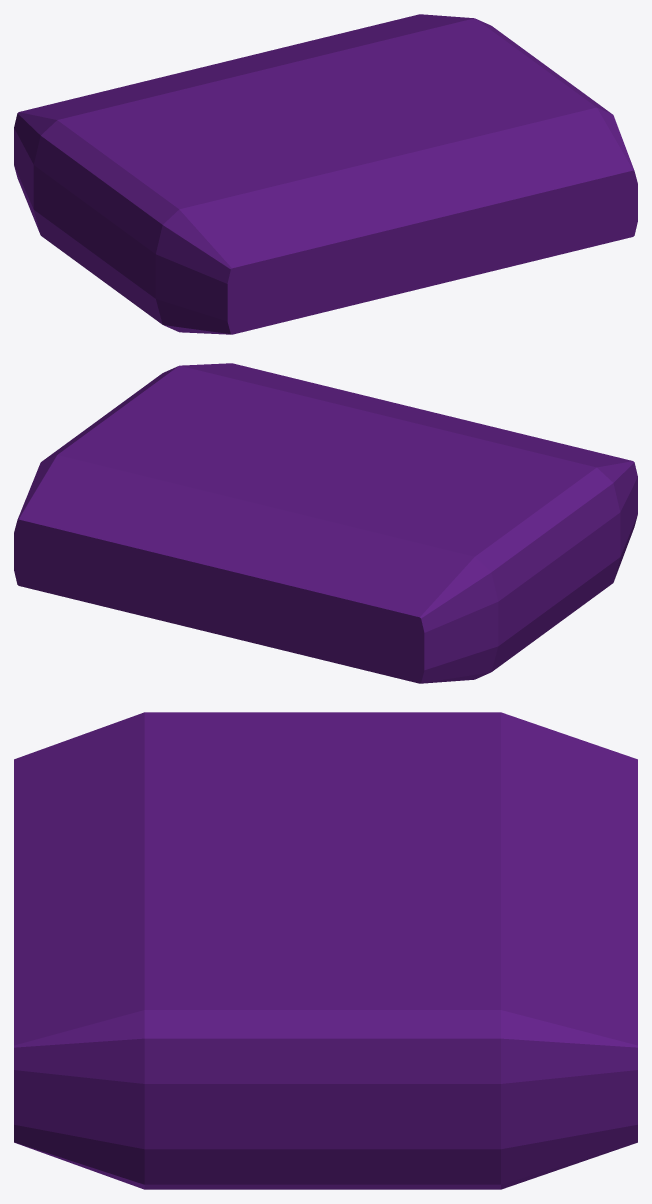
Rendered from Pillow.001.fbx.
3 views of the same model, one above another, from view 1: azimuth 30°, elevation 25°; view 2: azimuth 150°, elevation 25°; view 3: azimuth 270°, elevation 25° (orthographic). The views are drawn at different scales.
Visible parts, largest first — view 1: Pillow.001; view 2: Pillow.001; view 3: Pillow.001.
Part boxes in pixels (box(x1,y1,x2,y2)): Pillow.001: box(14, 14, 637, 334); Pillow.001: box(14, 363, 637, 683); Pillow.001: box(14, 712, 637, 1189).
Size of the model in its own units: 87.94 by 22.24 by 70.
